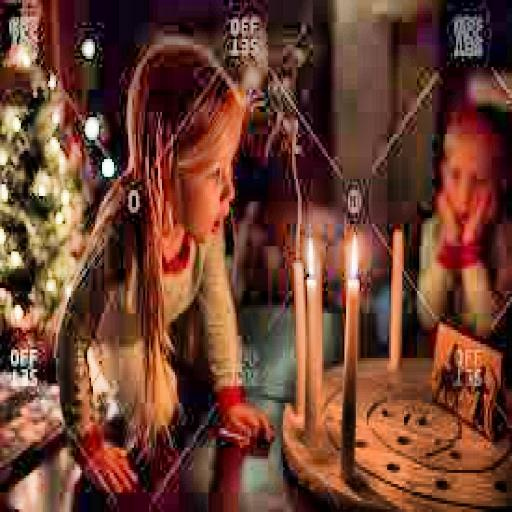fire: (344, 229, 363, 280), (302, 232, 314, 277)
